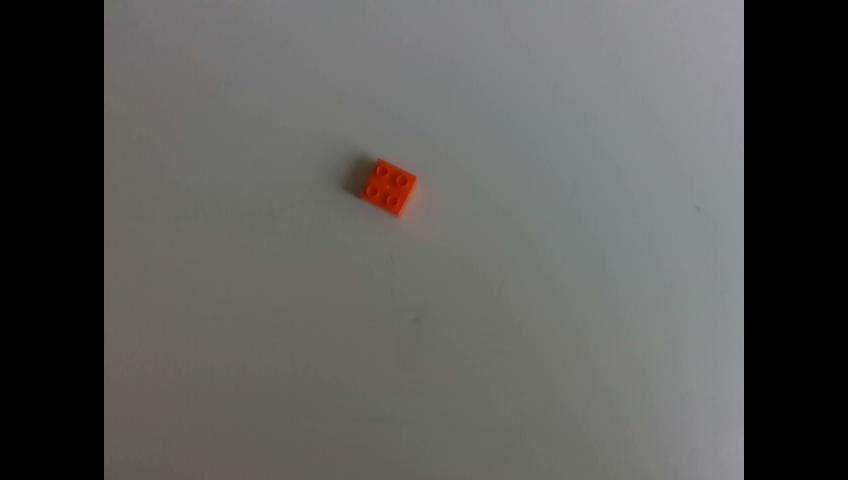2x2_orange: (362, 159, 417, 215)
